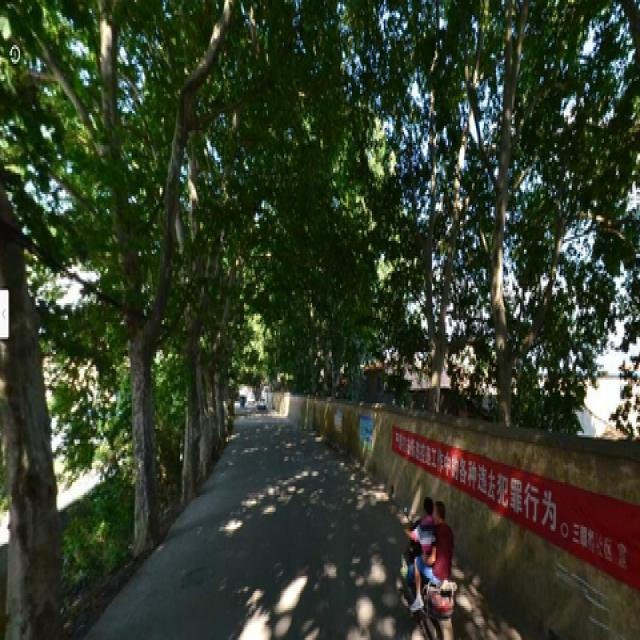meta: (93, 30, 175, 523)
